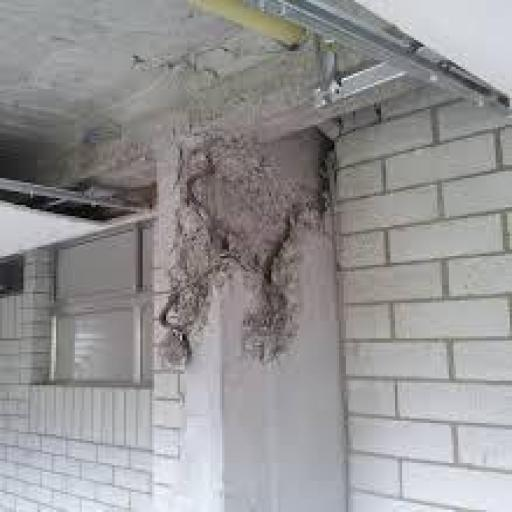spalling: (167, 140, 337, 363)
